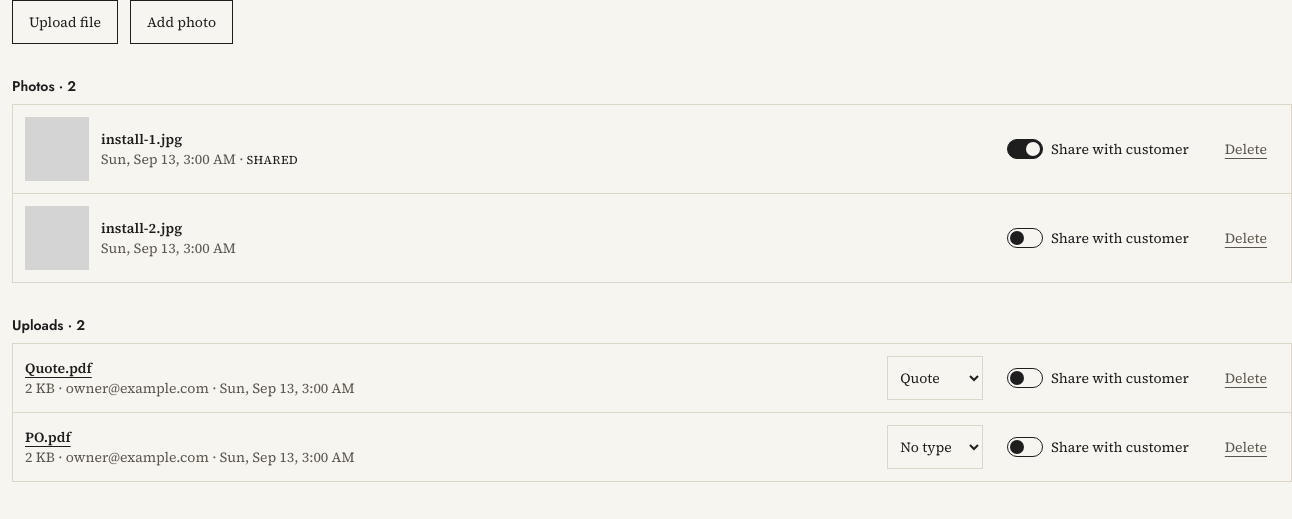
Test: JobFiles photos and sharing › puts the old type back and says so when the save fails
Select "Invoice" in the dropdown named "Document type for Quote.pdf" at coordinates (935, 378), box top-left (887, 356), bottom-right (983, 400)
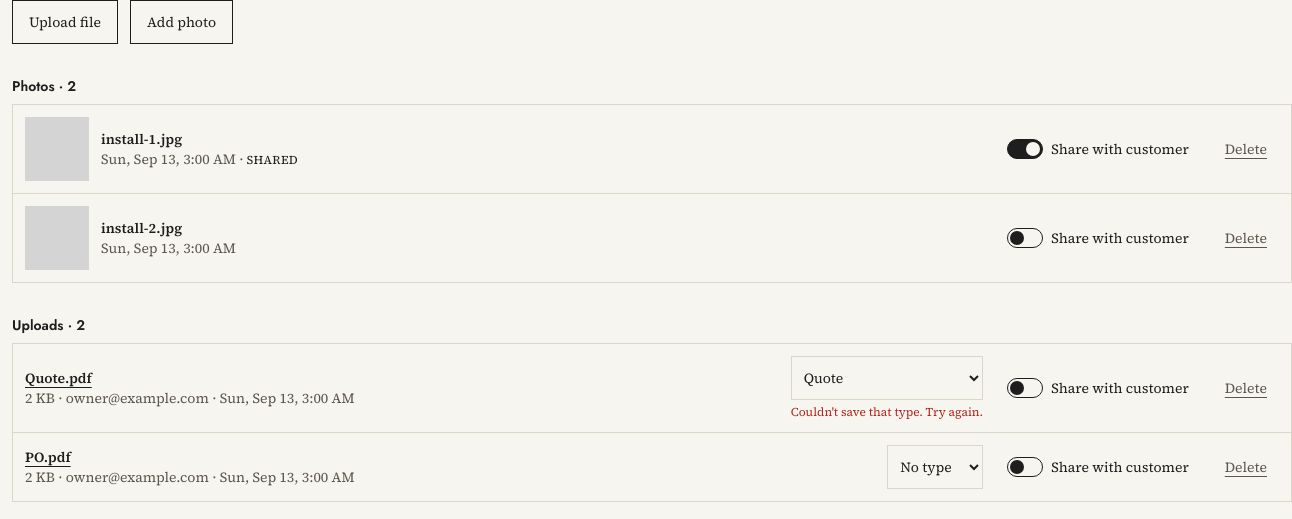
Expected: the message shows "Couldn't save that type", top-left (791, 404), bottom-right (983, 420)
